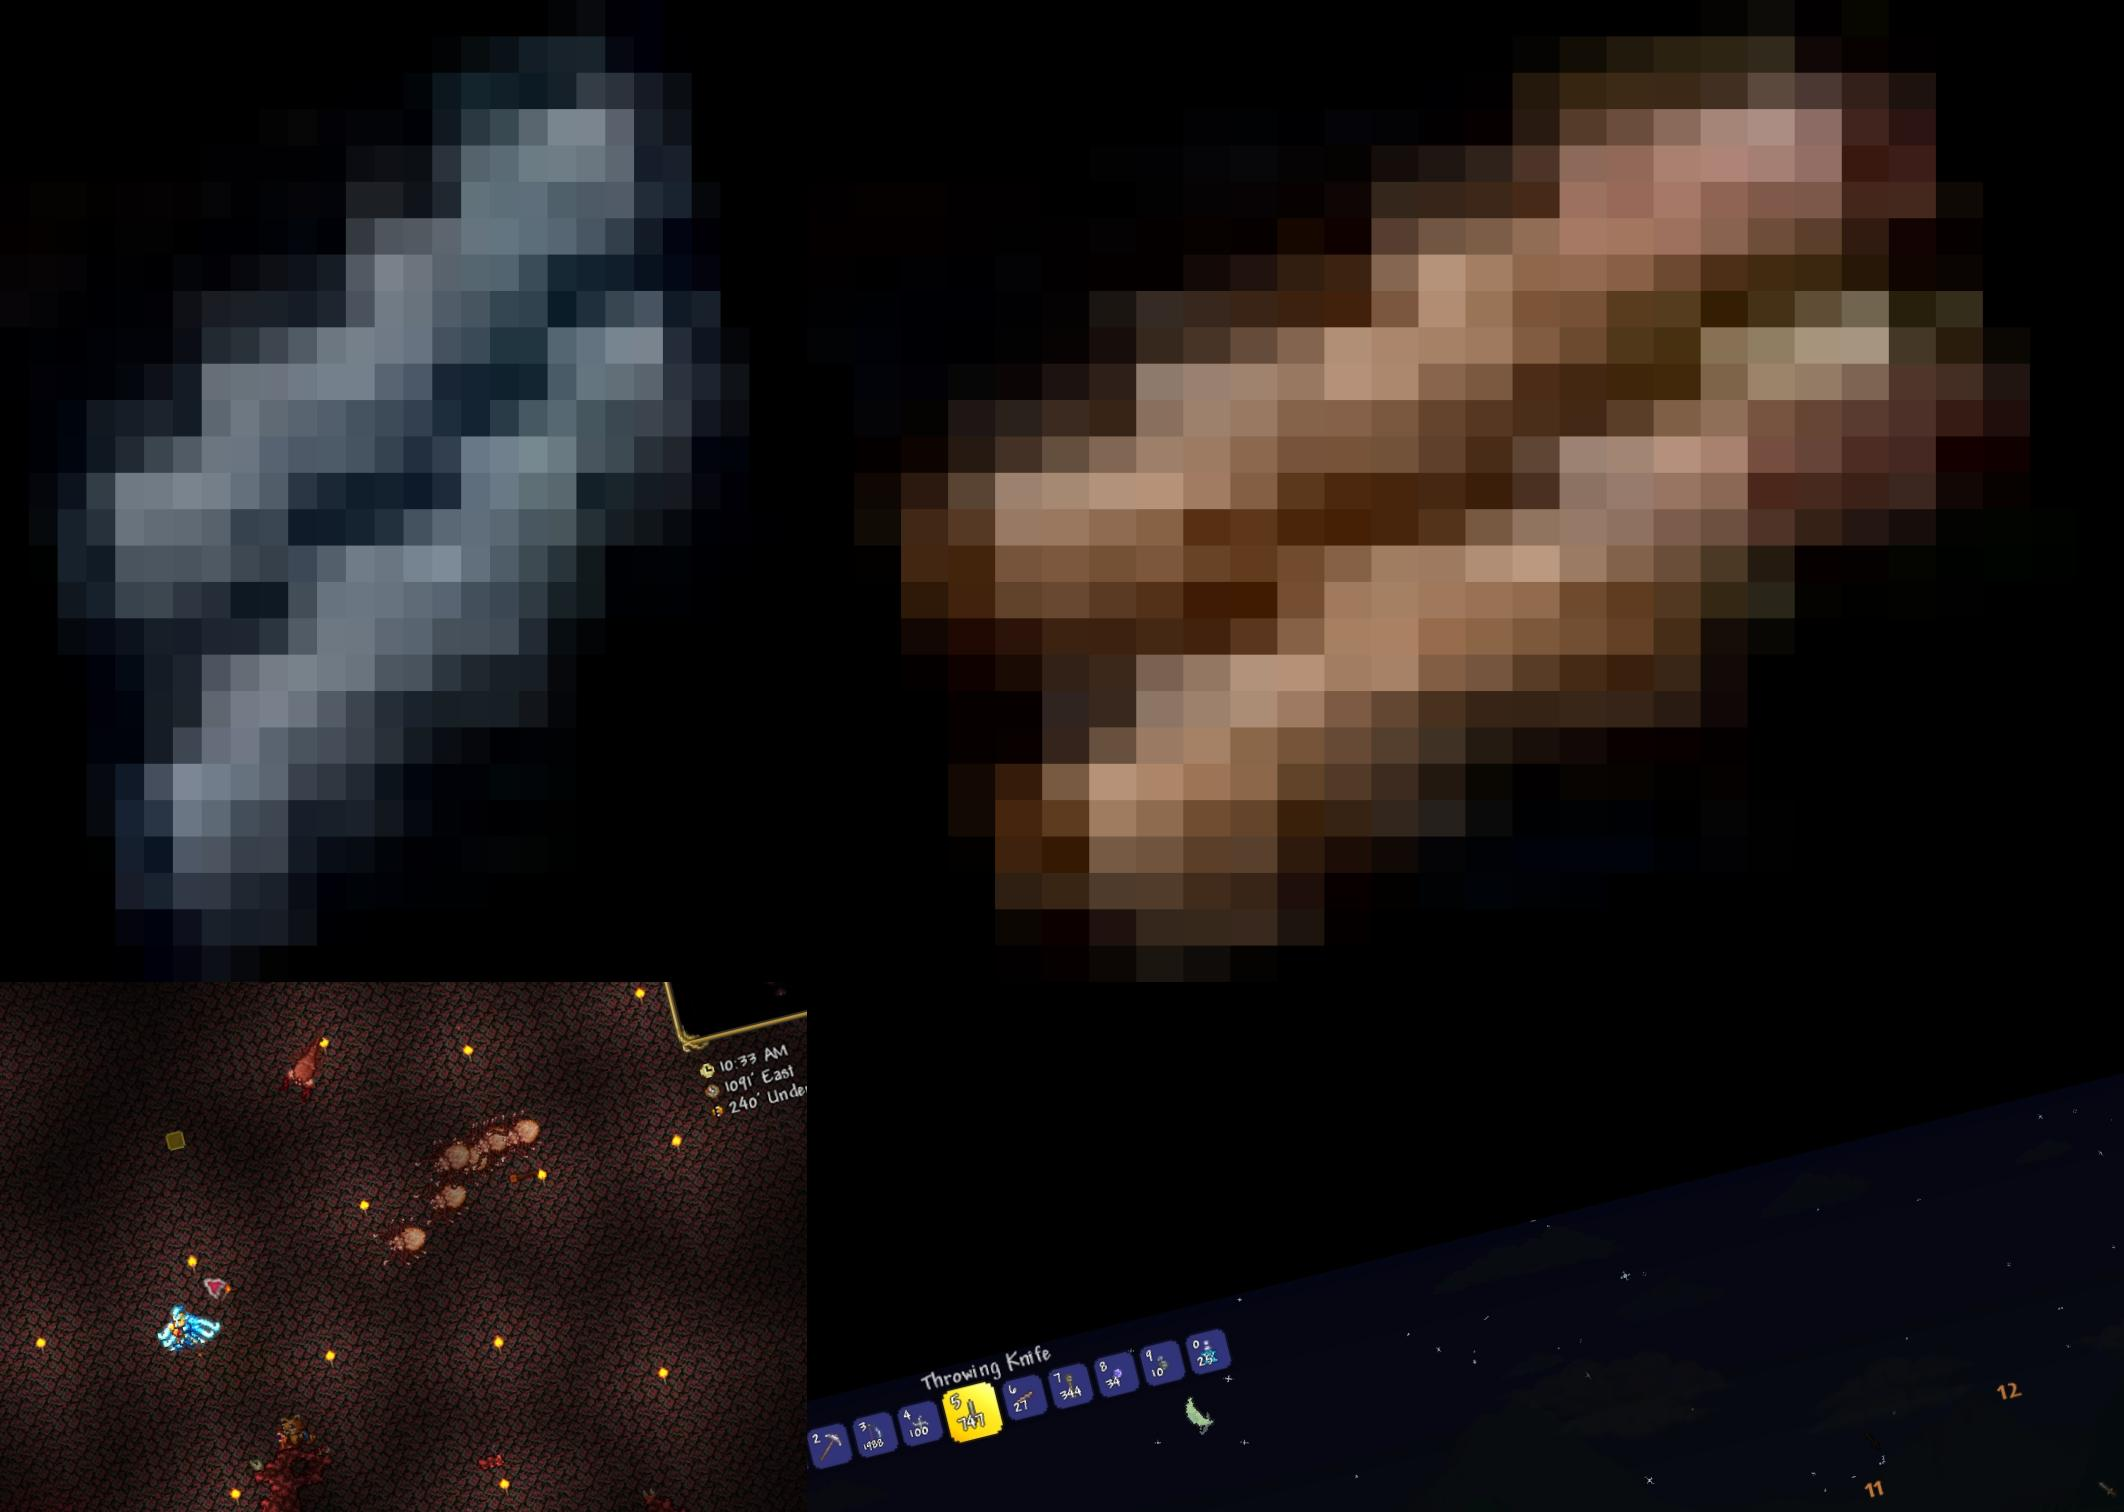crimera: (273, 1034, 335, 1105)
wood: (807, 0, 2124, 982), (0, 0, 807, 982)
